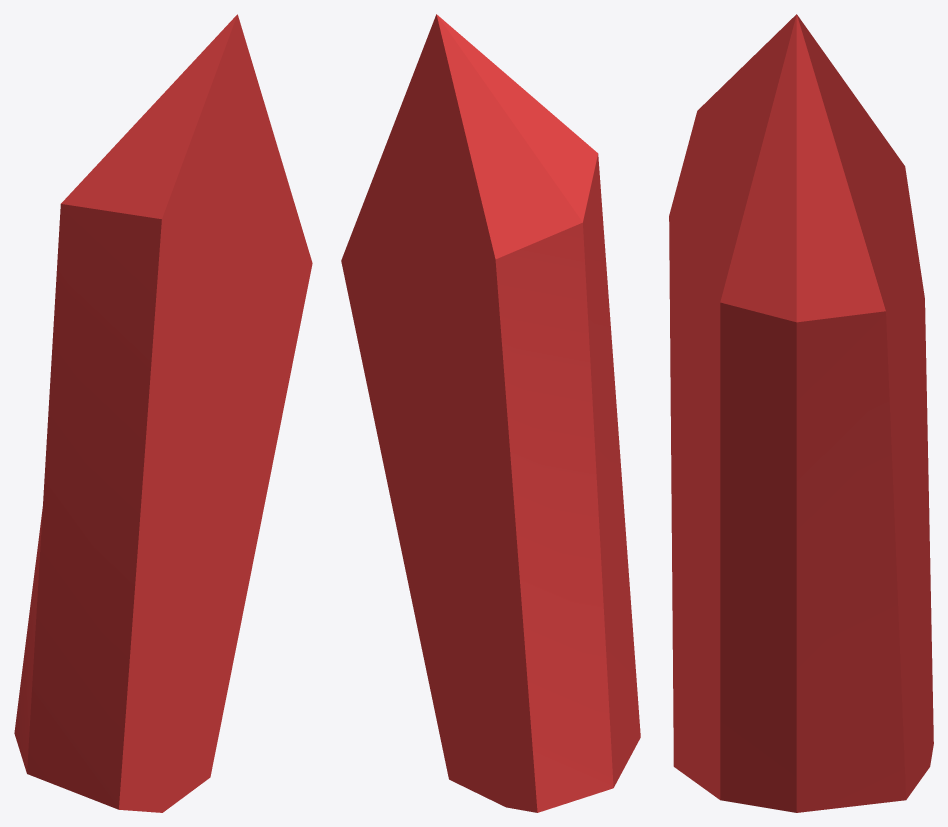
File: Big_Crystal_5_LOD.fbx
The picture shows the model from 3 angles, left to right: view 1: azimuth 30°, elevation 25°; view 2: azimuth 150°, elevation 25°; view 3: azimuth 270°, elevation 25°; orthographic projection. The views are drawn at different scales.
Parts seen in each view (by area): view 1: pCube64; view 2: pCube64; view 3: pCube64.
Part boxes in pixels (bbox=[...]): pCube64: bbox=[14, 14, 312, 812]; pCube64: bbox=[341, 14, 640, 812]; pCube64: bbox=[669, 14, 933, 812].
Bounding box in the file's own units: 3.35 × 9.03 × 2.63.
